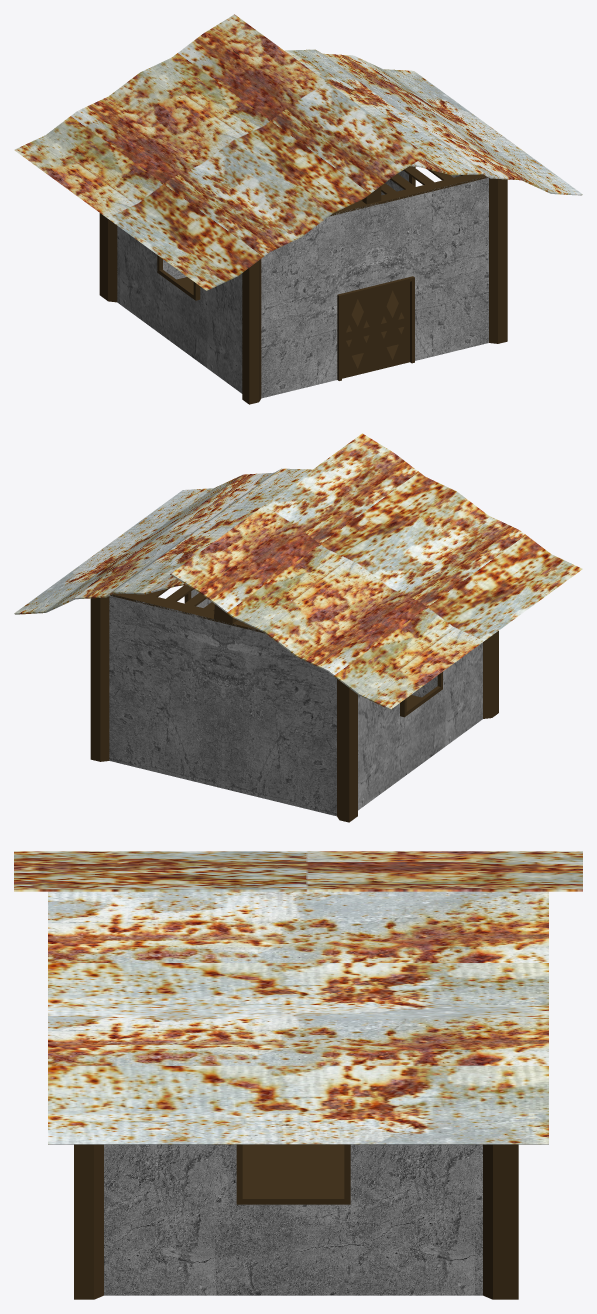
The model's file is bahayconcrete.fbx.
3 renders of one model, top to bottom at view 1: azimuth 30°, elevation 25°; view 2: azimuth 150°, elevation 25°; view 3: azimuth 270°, elevation 25°, orthographic. The views are drawn at different scales.
Parts seen in each view (by area): view 1: Plane.001, ConcreteBahay, Plane.002; view 2: Plane.001, ConcreteBahay, Plane.002; view 3: Plane.002, ConcreteBahay, Plane.001.
Part boxes in pixels (x1,y1,x2,y2): Plane.001: [14, 14, 426, 290]; ConcreteBahay: [99, 50, 507, 404]; Plane.002: [285, 49, 582, 195]; Plane.001: [170, 433, 582, 709]; ConcreteBahay: [90, 566, 498, 822]; Plane.002: [14, 468, 312, 614]; Plane.002: [48, 891, 548, 1144]; ConcreteBahay: [74, 1144, 518, 1299]; Plane.001: [14, 851, 582, 891].
Size of the model in its own units: 676 by 377 by 577.
3 materials, 2 textured.
